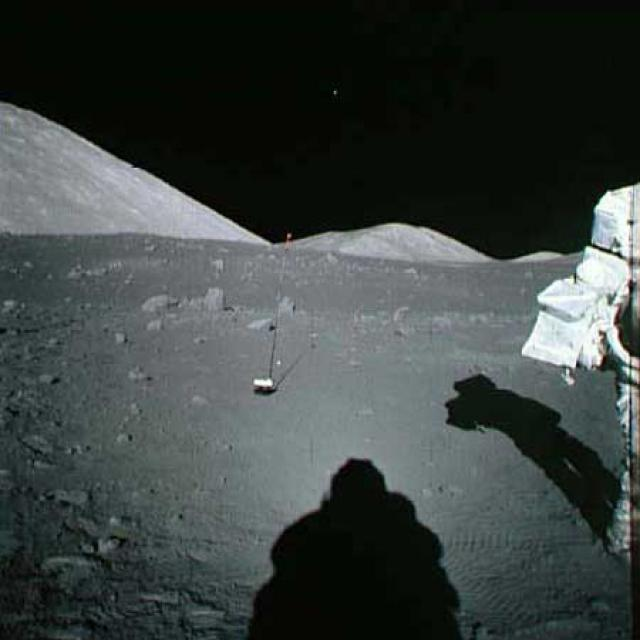artifact: (250, 228, 300, 400)
rock: (179, 285, 227, 315), (54, 482, 94, 506), (136, 290, 177, 310), (280, 293, 302, 320), (250, 312, 274, 333), (128, 362, 150, 382), (37, 369, 59, 387), (148, 316, 168, 334), (110, 330, 131, 346)
